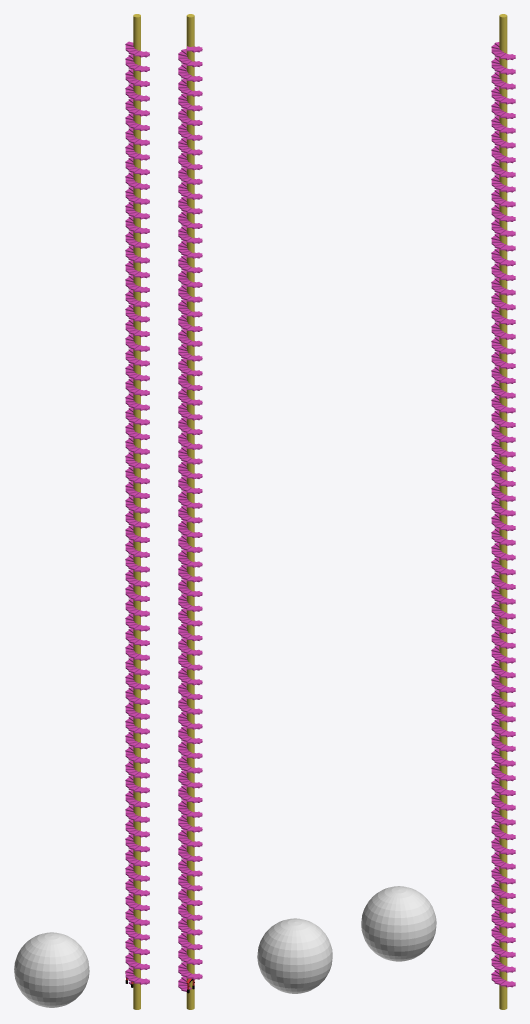
The model's file is Stairs with arch.fbx.
3 renders of one model, left to right at view 1: azimuth 30°, elevation 25°; view 2: azimuth 150°, elevation 25°; view 3: azimuth 330°, elevation 25°, orthographic.
Parts seen in each view (by area): view 1: Cylinder, Sphere; view 2: Cylinder, Sphere; view 3: Cylinder, Sphere.
Part boxes in pixels (bbox=[...]): Cylinder: bbox=[133, 14, 140, 1009]; Sphere: bbox=[14, 932, 89, 1007]; Cylinder: bbox=[186, 14, 194, 1009]; Sphere: bbox=[257, 918, 332, 993]; Cylinder: bbox=[499, 14, 507, 1009]; Sphere: bbox=[361, 886, 436, 961].
Size of what is drawn, in the model's own units: 2432 by 16652 by 1150.
